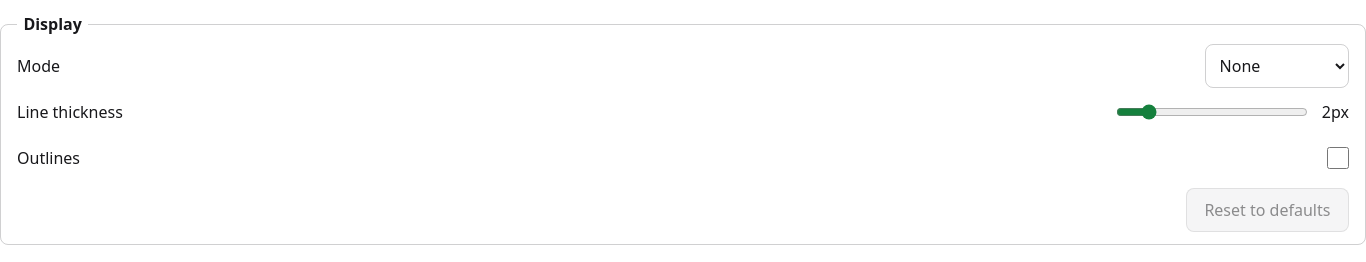
Test: OptionsPanel › disables a field when its condition holds, showing a forced toggle as ticked
Expected: the checkbox labelled "Outlines" is enabled, [1327,147,1349,169]
Expected: the checkbox labelled "Outlines" is not checked, [1327,147,1349,169]
Select "None" in the dropdown labelled "Mode" at (1277, 66), box [1205,44,1349,88]
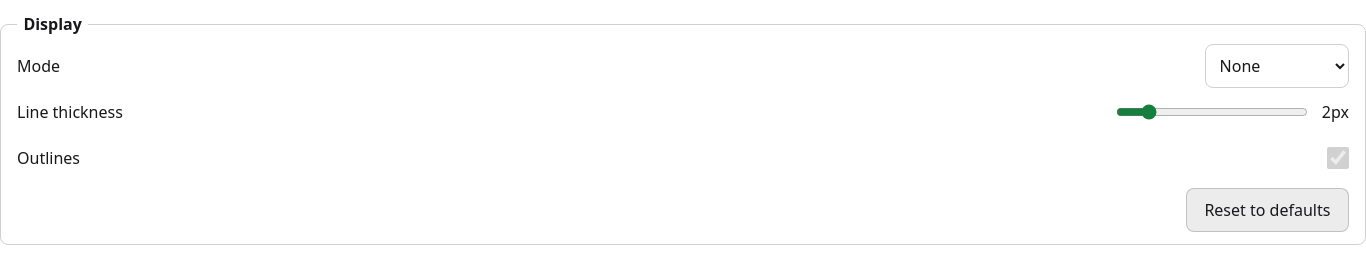
Now the checkbox labelled "Outlines" is disabled, box [1327,147,1349,169]
Now the checkbox labelled "Outlines" is checked, box [1327,147,1349,169]
